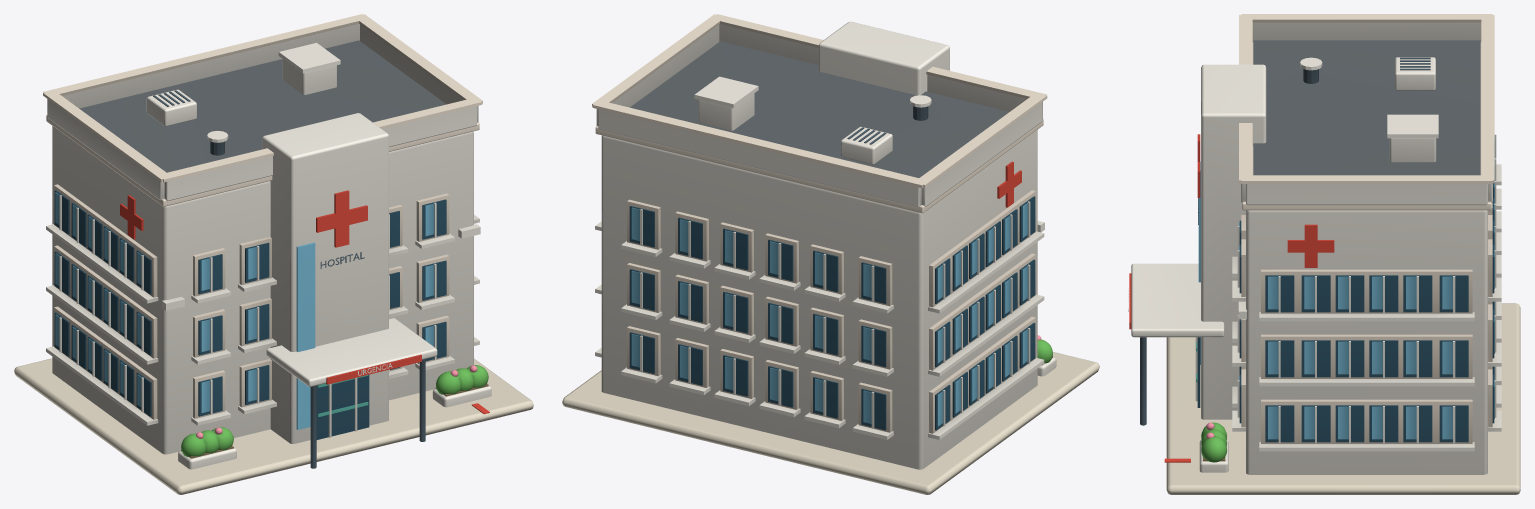
Rendered from hospital.glb.
The picture shows the model from 3 angles, left to right: view 1: azimuth 30°, elevation 25°; view 2: azimuth 150°, elevation 25°; view 3: azimuth 270°, elevation 25°; orthographic projection. The views are drawn at different scales.
Parts seen in each view (by area): view 1: main hospital, recess surround, recessed roof, forecourt, blue glazing, sky reflection, medical cross, plant, vent grille; view 2: main hospital, recess surround, recessed roof, blue glazing, forecourt, sky reflection, medical cross; view 3: main hospital, recessed roof, recess surround, forecourt, blue glazing, sky reflection, medical cross, vent grille, plant.
Boxes of the visible parts, bbox=[...] form: main hospital: bbox=[46, 24, 491, 469]; recess surround: bbox=[43, 14, 482, 419]; recessed roof: bbox=[79, 40, 446, 172]; forecourt: bbox=[14, 358, 533, 494]; blue glazing: bbox=[54, 190, 446, 439]; sky reflection: bbox=[55, 192, 434, 429]; medical cross: bbox=[120, 190, 489, 414]; plant: bbox=[181, 365, 488, 456]; vent grille: bbox=[153, 90, 425, 468]; main hospital: bbox=[595, 21, 1056, 469]; recess surround: bbox=[592, 14, 1047, 433]; recessed roof: bbox=[630, 41, 1009, 177]; blue glazing: bbox=[629, 196, 1035, 430]; forecourt: bbox=[562, 352, 1099, 494]; sky reflection: bbox=[631, 203, 1028, 426]; medical cross: bbox=[997, 161, 1021, 207]; main hospital: bbox=[1128, 22, 1501, 474]; recessed roof: bbox=[1253, 40, 1480, 175]; recess surround: bbox=[1239, 14, 1494, 443]; forecourt: bbox=[1166, 303, 1520, 494]; blue glazing: bbox=[1197, 183, 1494, 442]; sky reflection: bbox=[1198, 136, 1494, 439]; medical cross: bbox=[1129, 134, 1334, 462]; vent grille: bbox=[1140, 57, 1430, 425]; plant: bbox=[1201, 422, 1227, 462].
Bounding box in the file's own units: 4.7 × 3.74 × 4.21.
